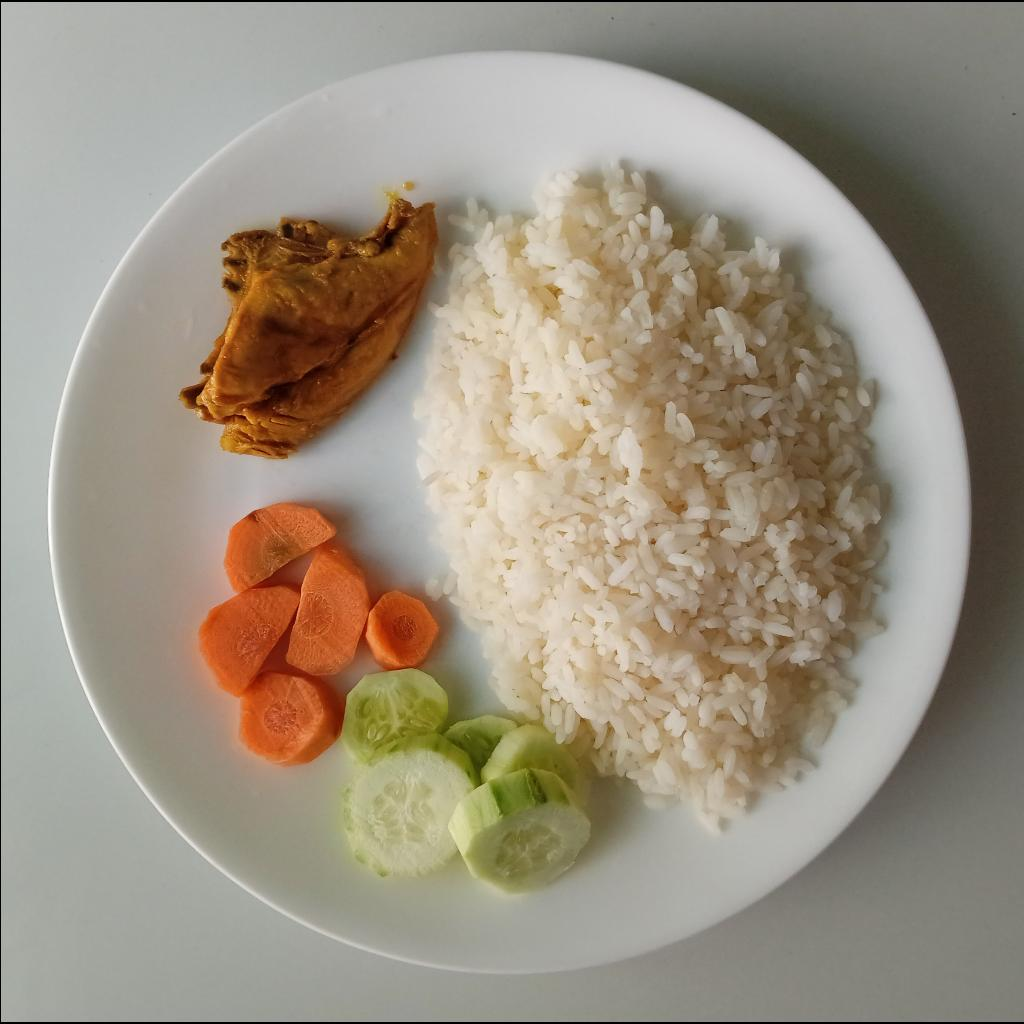carrot: (197, 504, 443, 767)
chicken: (176, 194, 439, 458)
cucumber: (340, 674, 591, 894)
rice: (415, 167, 889, 834)
